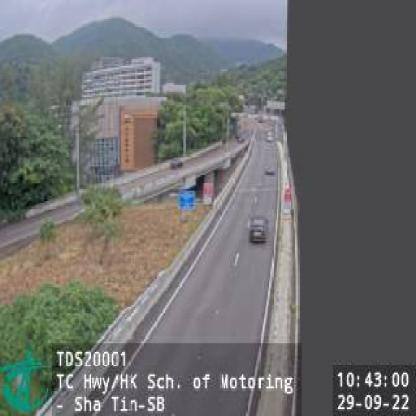Car: (247, 213, 267, 243)
